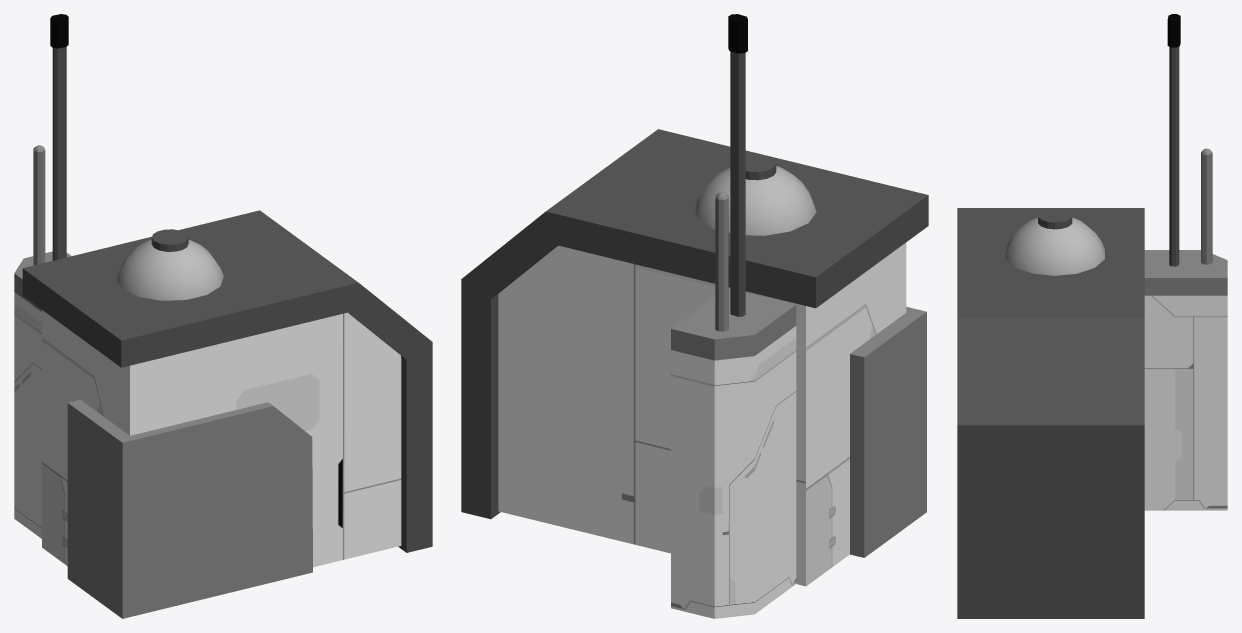
File: SM_BuildingExtra_Roof_1.fbx
3 views of the same model, side by side, from view 1: azimuth 30°, elevation 25°; view 2: azimuth 150°, elevation 25°; view 3: azimuth 270°, elevation 25° (orthographic). The views are drawn at different scales.
Parts seen in each view (by area): view 1: SM_BuildingExtra_Roof_1; view 2: SM_BuildingExtra_Roof_1; view 3: SM_BuildingExtra_Roof_1.
Boxes of the visible parts, left/top/right/bottom form: SM_BuildingExtra_Roof_1: left=14, top=14, right=432, bottom=618; SM_BuildingExtra_Roof_1: left=461, top=14, right=928, bottom=618; SM_BuildingExtra_Roof_1: left=957, top=14, right=1227, bottom=618.
Bounding box in the file's own units: 327 × 511 × 260.
